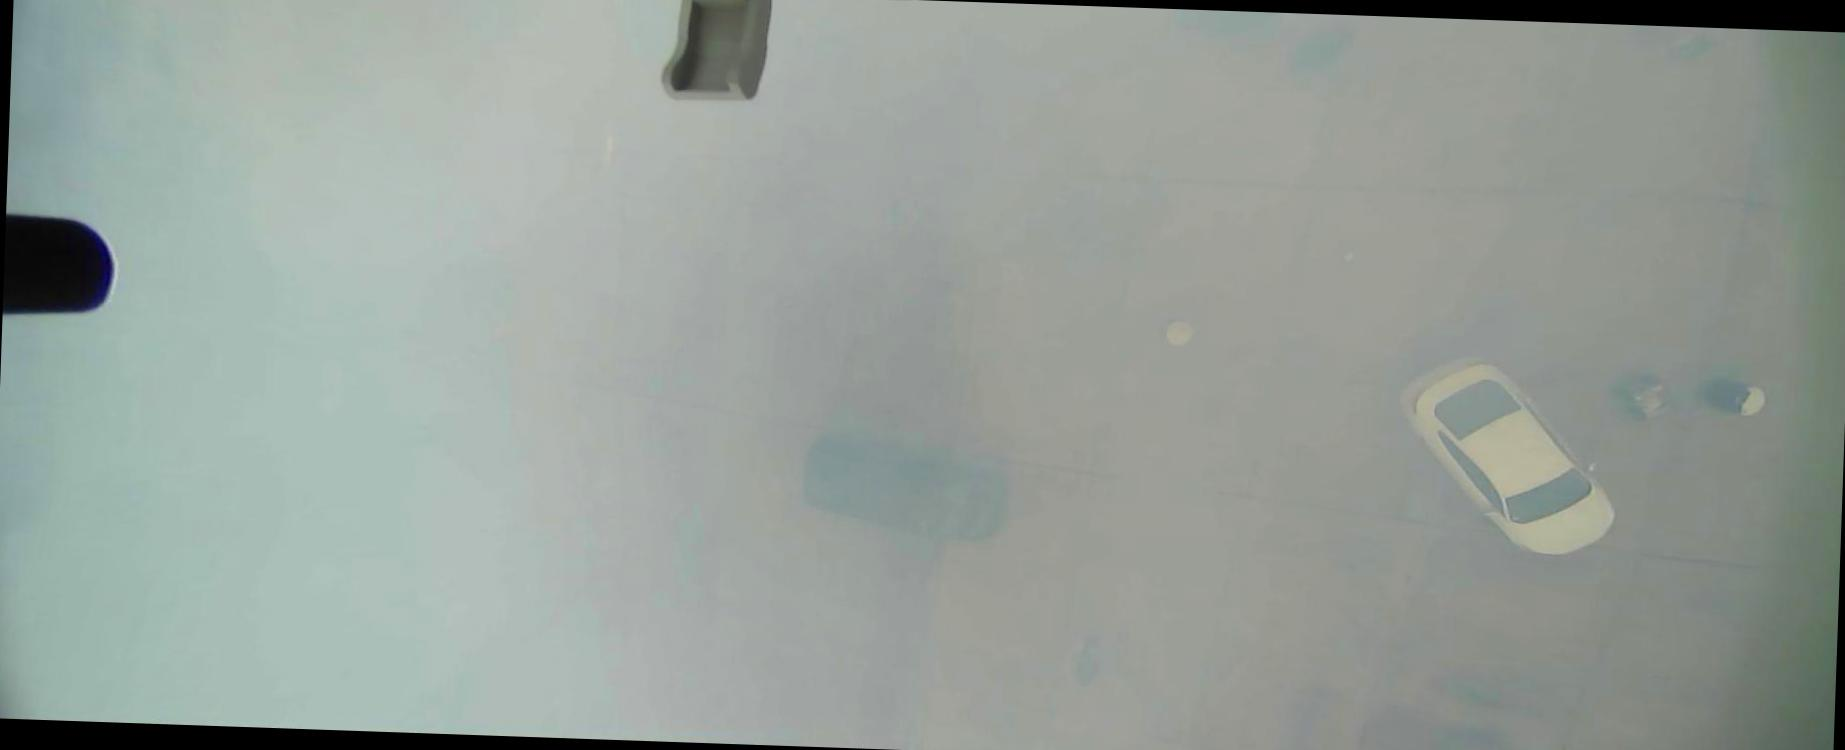vehicle: (1390, 354, 1620, 560), (799, 431, 1007, 544)
